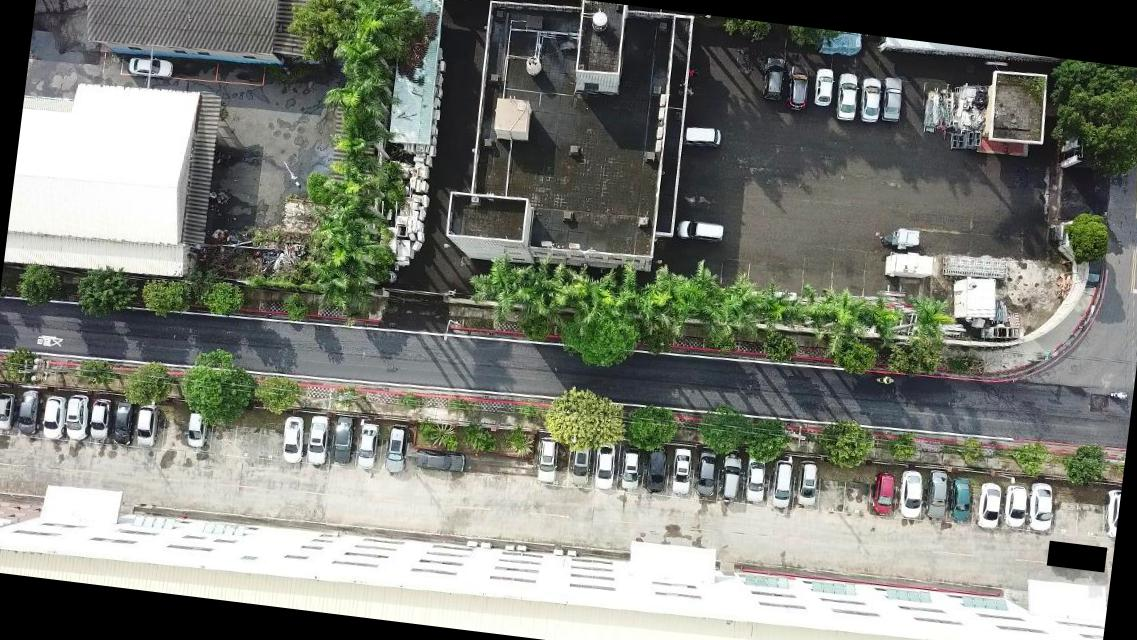vehicle: (1026, 478, 1057, 530), (974, 478, 1003, 530), (896, 468, 926, 518), (717, 453, 745, 505), (279, 414, 308, 464), (414, 446, 466, 472), (382, 422, 408, 474), (304, 412, 330, 464), (667, 446, 694, 496), (39, 392, 67, 440), (16, 387, 44, 435), (675, 216, 725, 242), (694, 448, 720, 498), (86, 394, 113, 442), (354, 419, 380, 468), (184, 402, 212, 447), (857, 76, 882, 126), (771, 458, 796, 508), (534, 434, 559, 484), (924, 468, 948, 520), (330, 414, 354, 466), (834, 70, 858, 121), (135, 399, 161, 446), (63, 392, 89, 439), (947, 476, 974, 521), (868, 471, 895, 516), (592, 440, 616, 490), (760, 54, 786, 100), (1001, 485, 1028, 529), (786, 61, 810, 110), (743, 455, 767, 504), (568, 438, 592, 487), (794, 461, 820, 506), (881, 74, 905, 122), (111, 398, 135, 446), (127, 54, 174, 78), (643, 446, 668, 490), (1098, 487, 1120, 536), (618, 446, 641, 492), (810, 66, 835, 106), (682, 123, 722, 147), (0, 388, 18, 431)
